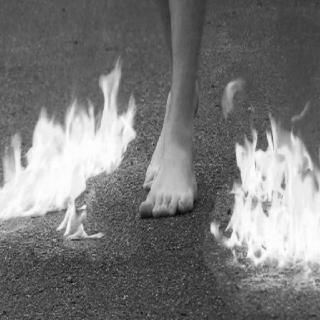Fire: (1, 56, 139, 240), (223, 79, 319, 282)
